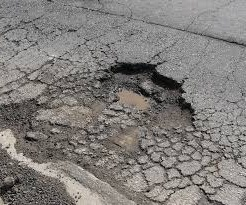pothole: (5, 45, 198, 176)
